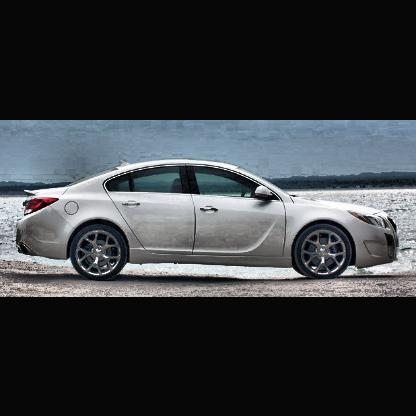Buick Regal GS 2012: (20, 162, 401, 281)
